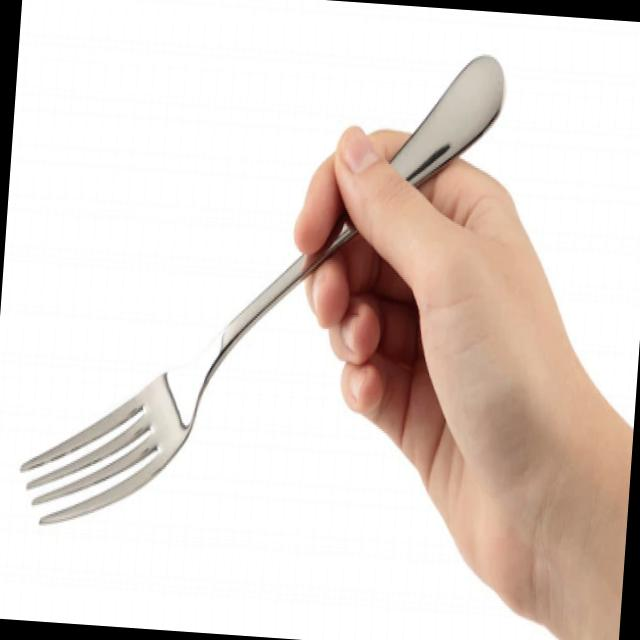fork: (16, 24, 508, 562)
